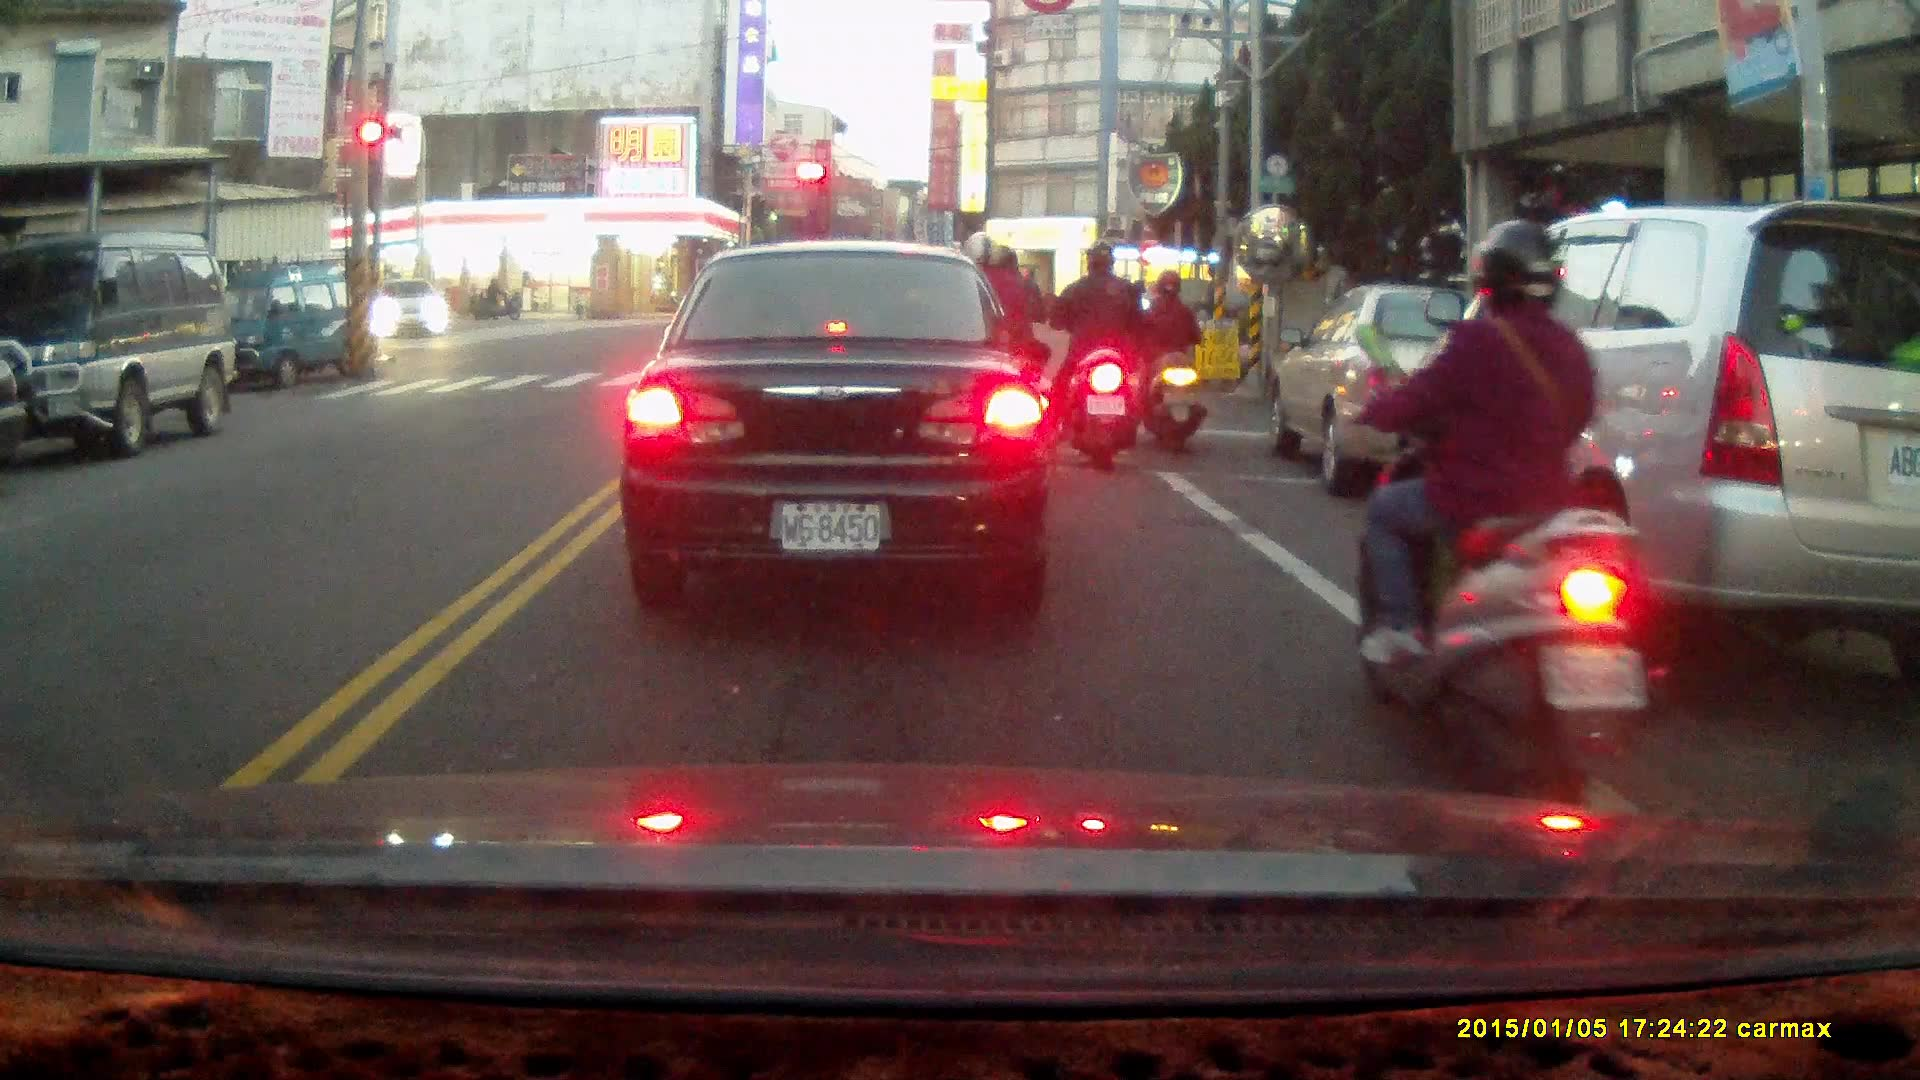rider: (1352, 221, 1669, 827), (934, 230, 1047, 479), (1048, 242, 1141, 468), (960, 239, 1056, 435), (1134, 269, 1204, 450), (474, 279, 520, 322)
vehicle: (1375, 196, 1920, 686), (617, 243, 1061, 606), (1266, 285, 1570, 498), (1, 234, 239, 458), (194, 255, 381, 393), (372, 277, 451, 343)
